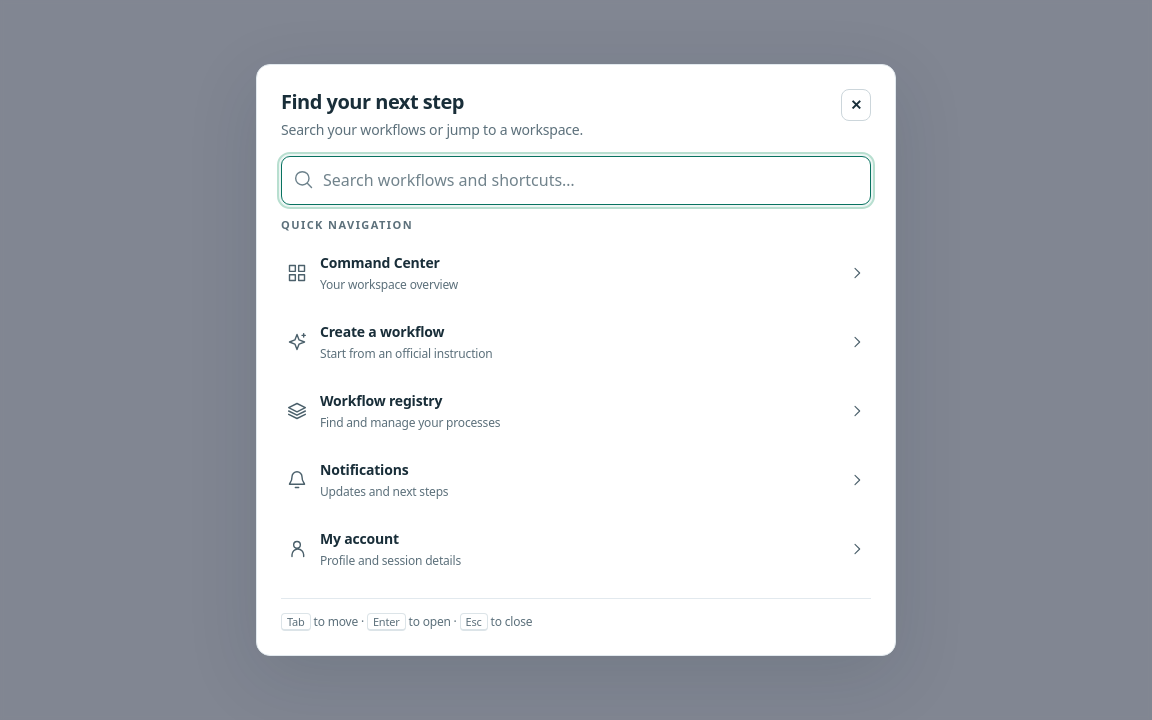
Test: Workspace search and next-step components › preserves navigation and gives a useful message when search fails
Type "workflow" into the search field.
click(576, 180); type("workflow")  # box [281,156,871,205]
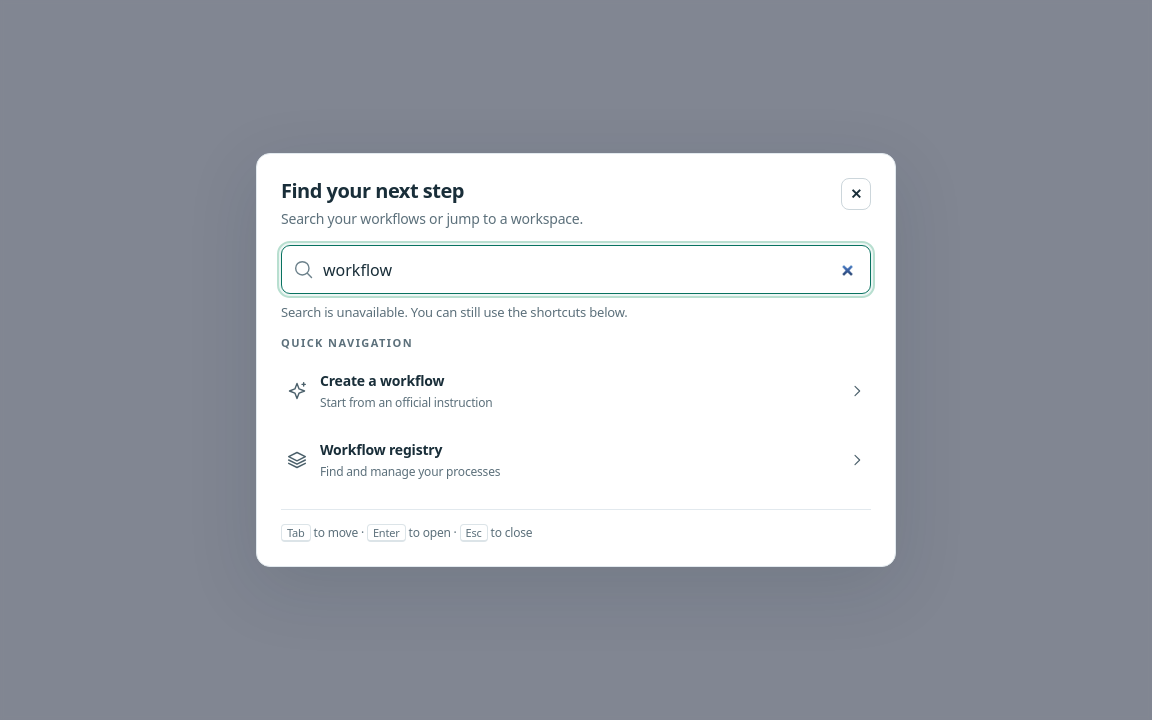
Expected: the link "Create a workflow Start from an official instruction" is shown, [275,358,877,424]
Expected: the text "Search is unavailable. You can still use the shortcuts below." is shown, [281,303,628,321]
Clear the search field at (576, 270), box [281,245,871,294]
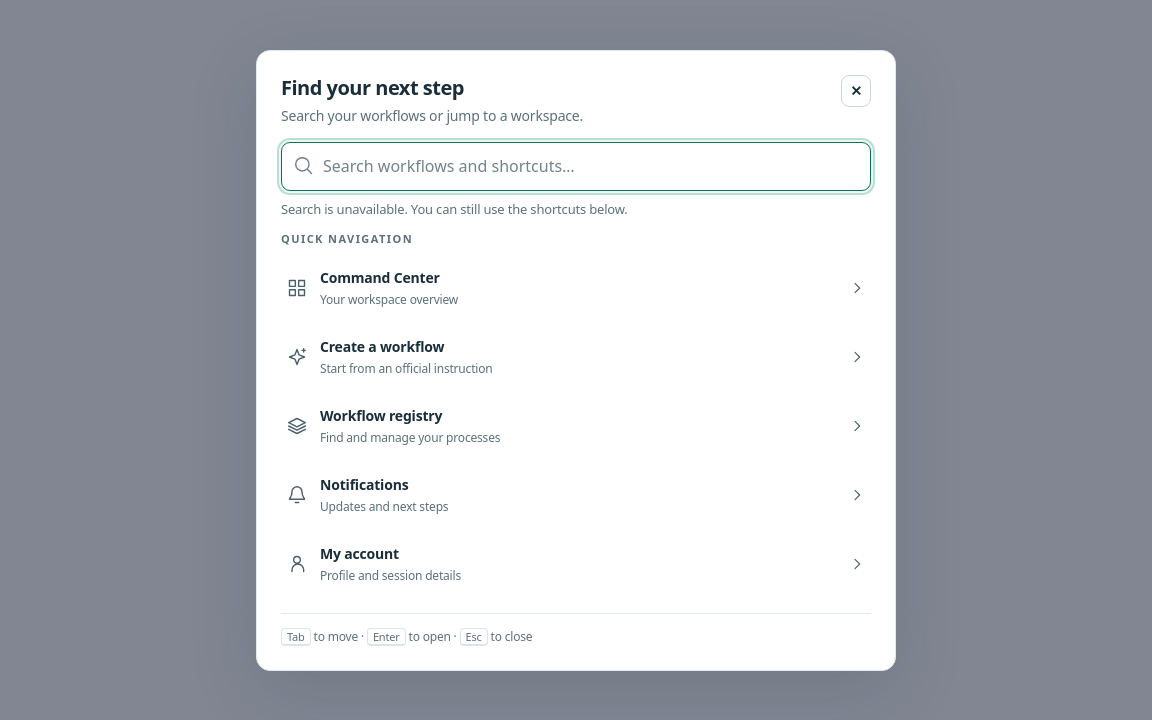
Expected: the link "Notifications Updates and next steps" is shown, [275,462,877,528]
